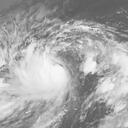cyclone: (8, 46, 72, 104)
